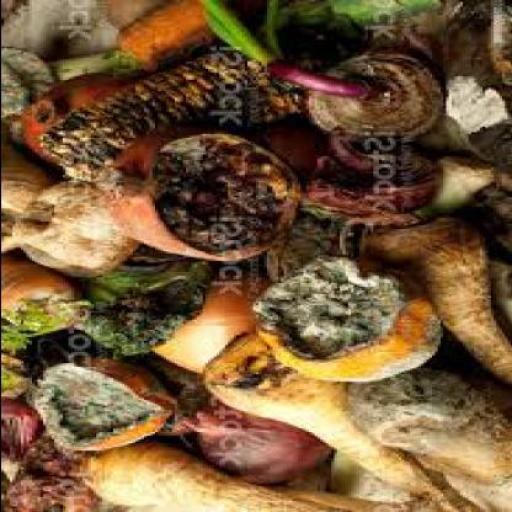biodegradable: (1, 0, 511, 511), (201, 332, 476, 510), (31, 30, 336, 182), (352, 212, 510, 382), (103, 126, 299, 259), (78, 441, 443, 510), (246, 251, 440, 380), (339, 366, 509, 484), (433, 0, 510, 260), (196, 0, 366, 96), (76, 240, 201, 352), (168, 398, 328, 484), (23, 356, 168, 450), (302, 48, 445, 142), (296, 132, 440, 218), (8, 179, 136, 275), (140, 272, 262, 372), (14, 69, 132, 164), (248, 0, 446, 53), (114, 0, 264, 68), (3, 430, 95, 510), (1, 113, 46, 254), (1, 0, 110, 54), (1, 251, 73, 330), (403, 154, 489, 216), (322, 446, 405, 503), (1, 295, 81, 351), (277, 214, 338, 268), (30, 50, 136, 80), (0, 45, 48, 111), (0, 394, 37, 460), (48, 50, 128, 80), (484, 255, 509, 348), (92, 0, 168, 28), (0, 362, 28, 396)
